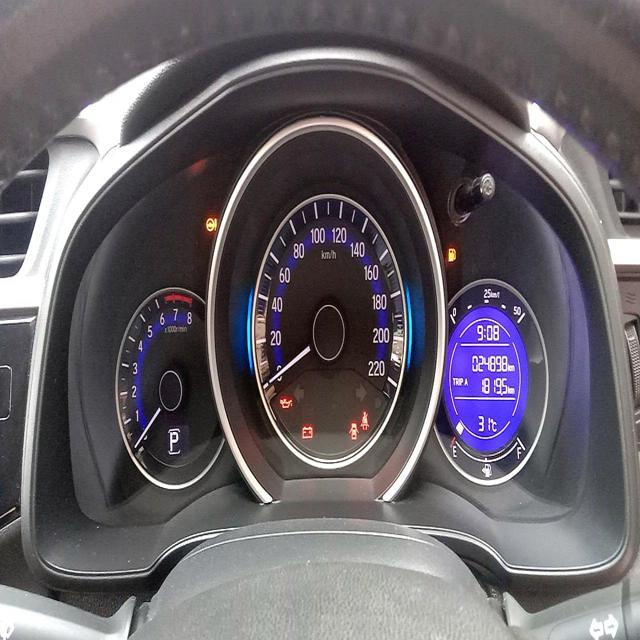odometer: (470, 352, 508, 376)
